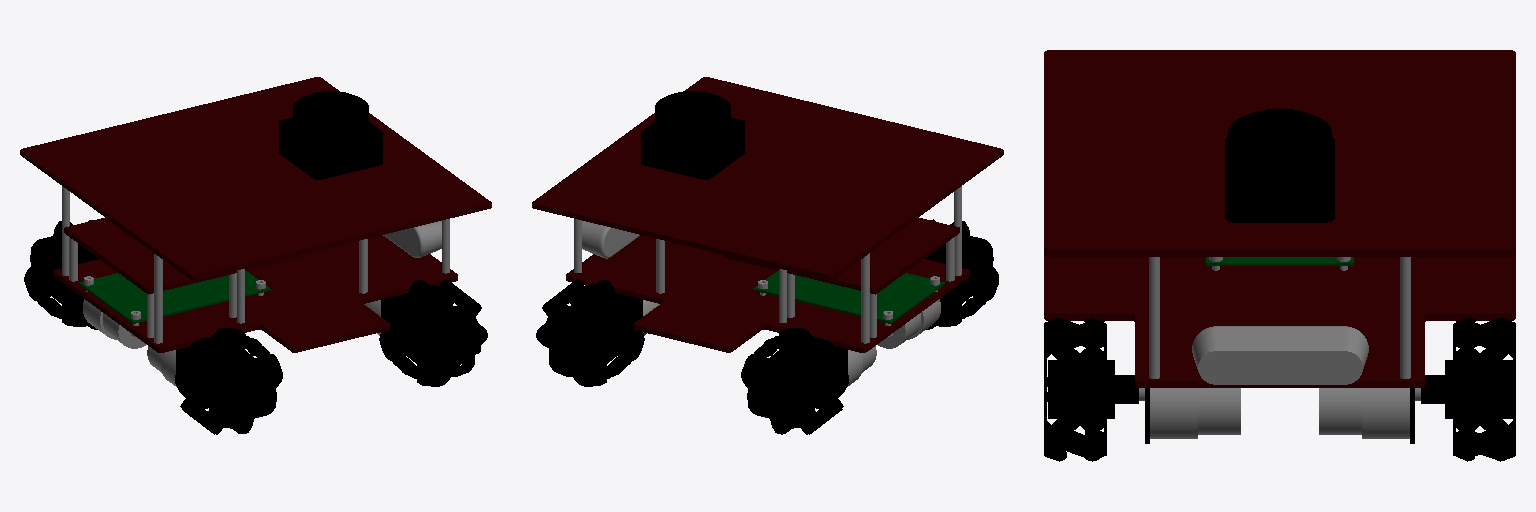
The robot description file, URDF, robot "lgdxrobot2":
<?xml version="1.0" ?>
<robot name="lgdxrobot2" xmlns:xacro="http://www.ros.org/wiki/xacro" xmlns:gz="http://gazebosim.org/schema">
  <joint name="base_footprint_joint" type="fixed">
    <origin rpy="0.00000 0.00000 0.00000" xyz="0.00000 0.00000 0.00000"/>
    <parent link="base_link"/>
    <child link="base_footprint"/>
  </joint>
  <joint name="camera_link_joint" type="fixed">
    <origin rpy="0.00000 0.00000 0.00000" xyz="0.13104 0.01776 0.07181"/>
    <parent link="base_link"/>
    <child link="camera_link"/>
  </joint>
  <joint name="camera_color_frame_joint" type="fixed">
    <origin rpy="0.00000 0.00000 0.00000" xyz="-0.00000 0.01500 0.00000"/>
    <parent link="camera_link"/>
    <child link="camera_color_frame"/>
  </joint>
  <joint name="camera_depth_frame_joint" type="fixed">
    <origin rpy="0.00000 0.00000 0.00000" xyz="-0.00000 -0.00000 0.00000"/>
    <parent link="camera_link"/>
    <child link="camera_depth_frame"/>
  </joint>
  <joint name="imu_link_joint" type="fixed">
    <origin rpy="0.00000 0.00000 0.00000" xyz="-0.08351 0.00000 0.0649"/>
    <parent link="base_link"/>
    <child link="imu_link"/>
  </joint>
  <joint name="lidar_link_joint" type="fixed">
    <origin rpy="0.00000 0.00000 -3.14159" xyz="0.06000 -0.00000 0.15641"/>
    <parent link="base_link"/>
    <child link="lidar_link"/>
  </joint>
  <joint name="wheel1_link_joint" type="continuous">
    <limit effort="10000" velocity="10"/>
    <dynamics damping="1.0" friction="1.0"/>
    <origin rpy="-1.57080 0.00000 0.00000" xyz="0.08200 0.10357 0.03681"/>
    <parent link="base_link"/>
    <child link="wheel1_link"/>
    <axis xyz="0 0 1" rpy="0 0 0"/>
  </joint>
  <joint name="wheel2_link_joint" type="continuous">
    <limit effort="10000" velocity="10"/>
    <dynamics damping="1.0" friction="1.0"/>
    <origin rpy="-1.57080 0.00000 0.00000" xyz="0.08200 -0.10357 0.03681"/>
    <parent link="base_link"/>
    <child link="wheel2_link"/>
    <axis xyz="0 0 1" rpy="0 0 0"/>
  </joint>
  <joint name="wheel3_link_joint" type="continuous">
    <limit effort="10000" velocity="10"/>
    <dynamics damping="1.0" friction="1.0"/>
    <origin rpy="-1.57080 0.00000 0.00000" xyz="-0.08200 0.10357 0.03681"/>
    <parent link="base_link"/>
    <child link="wheel3_link"/>
    <axis xyz="0 0 1" rpy="0 0 0"/>
  </joint>
  <joint name="wheel4_link_joint" type="continuous">
    <limit effort="10000" velocity="10"/>
    <dynamics damping="1.0" friction="1.0"/>
    <origin rpy="-1.57080 0.00000 0.00000" xyz="-0.08200 -0.10357 0.03681"/>
    <parent link="base_link"/>
    <child link="wheel4_link"/>
    <axis xyz="0 0 1" rpy="0 0 0"/>
  </joint>
  <link name="base_link">
    <collision name="plates_collision">
      <origin rpy="0.00000 0.00000 0.00000" xyz="0.00000 0.00000 0.09400"/>
      <geometry>
        <box size="0.24000 0.24000 0.07800"/>
      </geometry>
    </collision>
    <visual name="board">
      <material name="lgdxrobot_green"/>
      <origin rpy="0.00000 0.00000 0.00000" xyz="0.00000 0.00000 0.00000"/>
      <geometry>
        <mesh filename="package://lgdxrobot2_description/meshes/dae/b_LGDXRobot2_Board_001_.dae" scale="1.00000 1.00000 1.00000"/>
      </geometry>
    </visual>
    <visual name="brackets">
      <material name="lgdxrobot_black"/>
      <origin rpy="0.00000 0.00000 0.00000" xyz="0.00000 0.00000 0.00000"/>
      <geometry>
        <mesh filename="package://lgdxrobot2_description/meshes/dae/b_Mounting_Bracket_001_001.dae" scale="1.00000 1.00000 1.00000"/>
      </geometry>
    </visual>
    <visual name="motors">
      <material name="lgdxrobot_sliver"/>
      <origin rpy="0.00000 0.00000 0.00000" xyz="0.00000 0.00000 0.00000"/>
      <geometry>
        <mesh filename="package://lgdxrobot2_description/meshes/dae/b_Motor_001_001.dae" scale="1.00000 1.00000 1.00000"/>
      </geometry>
    </visual>
    <visual name="plates">
      <material name="lgdxrobot_red"/>
      <origin rpy="0.00000 0.00000 0.00000" xyz="0.00000 0.00000 0.00000"/>
      <geometry>
        <mesh filename="package://lgdxrobot2_description/meshes/dae/b_Top_Plate_001_.dae" scale="1.00000 1.00000 1.00000"/>
      </geometry>
    </visual>
    <visual name="screws">
      <material name="lgdxrobot_sliver"/>
      <origin rpy="0.00000 0.00000 0.00000" xyz="0.00000 0.00000 0.00000"/>
      <geometry>
        <mesh filename="package://lgdxrobot2_description/meshes/dae/b_M4_Nut_001_021.dae" scale="1.00000 1.00000 1.00000"/>
      </geometry>
    </visual>
    <visual name="standoffs">
      <material name="lgdxrobot_sliver"/>
      <origin rpy="0.00000 0.00000 0.00000" xyz="0.00000 0.00000 0.00000"/>
      <geometry>
        <mesh filename="package://lgdxrobot2_description/meshes/dae/b_Coupling_Nut_70mm_001_006.dae" scale="1.00000 1.00000 1.00000"/>
      </geometry>
    </visual>
    <inertial>
      <mass value="2.2768"/>
      <origin xyz="0.0 0 0" rpy=" 0 0 0"/>
      <inertia
          ixx="0.0625" ixy="0" ixz="0"
          iyy="0.2125" iyz="0"
          izz="0.25"
      />
    </inertial>
  </link>
  <link name="base_footprint"/>
  <link name="camera_link">
    <visual name="camera">
      <material name="lgdxrobot_sliver"/>
      <origin rpy="0.00000 0.00000 0.00000" xyz="-0.02304 -0.01750 -0.01250"/>
      <geometry>
        <mesh filename="package://lgdxrobot2_description/meshes/dae/b_Camera_001_.dae" scale="1.00000 1.00000 1.00000"/>
      </geometry>
    </visual>
  </link>
  <link name="camera_color_frame"/>
  <link name="camera_depth_frame"/>
  <link name="imu_link"/>
  <link name="lidar_link">
    <visual name="lidar">
      <material name="lgdxrobot_black"/>
      <origin rpy="0.00000 0.00000 0.00000" xyz="0.00000 -0.00000 -0.02310"/>
      <geometry>
        <mesh filename="package://lgdxrobot2_description/meshes/dae/b_Lidar_001_.dae" scale="1.00000 1.00000 1.00000"/>
      </geometry>
    </visual>
  </link>
  <link name="wheel1_link">
    <inertial>
      <mass value="0.1018"/>
      <origin xyz="0 0 0" rpy="0 0 0"/>
      <inertia
          ixx="0.00004448" ixy="0" ixz="0"
          iyy="0.00004448" iyz="0"
          izz="0.00007158"
      />
    </inertial>
    <collision>
      <geometry>
        <sphere radius="0.0375"/>
      </geometry>
    </collision>
    <visual name='wheel1'>
      <material name="lgdxrobot_black"/>
      <origin xyz="0 0 0" rpy="1.5707 0 0"/>
      <geometry>
        <mesh filename="package://lgdxrobot2_description/meshes/dae/b_Wheel_1_001_.dae" scale="1.00000 1.00000 1.00000"/>
      </geometry>
    </visual>
  </link>
  <link name="wheel2_link">
    <inertial>
      <mass value="0.1018"/>
      <origin xyz="0 0 0" rpy="0 0 0"/>
      <inertia
          ixx="0.00004448" ixy="0" ixz="0"
          iyy="0.00004448" iyz="0"
          izz="0.00007158"
      />
    </inertial>
    <collision>
      <geometry>
        <sphere radius="0.0375"/>
      </geometry>
    </collision>
    <visual name='wheel2'>
      <origin xyz="0 0 0" rpy="1.5707 0 0"/>
      <material name="lgdxrobot_black"/>
      <geometry>
        <mesh filename="package://lgdxrobot2_description/meshes/dae/b_Wheel_2_001_.dae" scale="1.00000 1.00000 1.00000"/>
      </geometry>
    </visual>
  </link>
  <link name="wheel3_link">
    <inertial>
      <mass value="0.1018"/>
      <origin xyz="0 0 0" rpy="0 0 0"/>
      <inertia
          ixx="0.00004448" ixy="0" ixz="0"
          iyy="0.00004448" iyz="0"
          izz="0.00007158"
      />
    </inertial>
    <collision>
      <geometry>
        <sphere radius="0.0375"/>
      </geometry>
    </collision>
    <visual name='wheel3'>
      <material name="lgdxrobot_black"/>
      <origin xyz="0 0 0" rpy="1.5707 0 0"/>
      <geometry>
        <mesh filename="package://lgdxrobot2_description/meshes/dae/b_Wheel_3_001_.dae" scale="1.00000 1.00000 1.00000"/>
      </geometry>
    </visual>
  </link>
  <link name="wheel4_link">
    <inertial>
      <mass value="0.1018"/>
      <origin xyz="0 0 0" rpy="0 0 0"/>
      <inertia
          ixx="0.00004448" ixy="0" ixz="0"
          iyy="0.00004448" iyz="0"
          izz="0.00007158"
      />
    </inertial>
    <collision>
      <geometry>
        <sphere radius="0.0375"/>
      </geometry>
    </collision>
    <visual name='wheel4'>
      <material name="lgdxrobot_black"/>
      <origin xyz="0 0 0" rpy="1.5707 0 0"/>
      <geometry>
        <mesh filename="package://lgdxrobot2_description/meshes/dae/b_Wheel_4_001_.dae" scale="1.00000 1.00000 1.00000"/>
      </geometry>
    </visual>
  </link>
  <!-- Gazebo MecanumDrive -->
  <gazebo>
    <plugin
      filename="gz-sim-mecanum-drive-system"
      name="gz::sim::systems::MecanumDrive">
      <topic>cmd_vel</topic>
      <front_left_joint>wheel1_link_joint</front_left_joint>
      <front_right_joint>wheel2_link_joint</front_right_joint>
      <back_left_joint>wheel3_link_joint</back_left_joint>
      <back_right_joint>wheel4_link_joint</back_right_joint>
      <wheel_separation>0.208</wheel_separation>
      <wheelbase>0.164</wheelbase>
      <wheel_radius>0.0375</wheel_radius>
      <min_acceleration>-5</min_acceleration>
      <max_acceleration>5</max_acceleration>
      <odom_topic>odom</odom_topic>
      <tf_topic>tf</tf_topic>
      <frame_id>odom</frame_id>
      <child_frame_id>base_link</child_frame_id>
      <odom_publish_frequency>100</odom_publish_frequency>
    </plugin>
    <plugin
      filename="gz-sim-joint-state-publisher-system"
      name="gz::sim::systems::JointStatePublisher">
      <topic>joint_states</topic>
    </plugin>
  </gazebo>
  <gazebo reference='wheel1_link'>
    <collision>
      <surface>
        <friction>
          <ode>
            <mu>1.5</mu>
            <mu2>0.0</mu2>
            <fdir1 gz:expressed_in="base_link">1 -1 0</fdir1>
          </ode>
        </friction>
      </surface>
    </collision>
  </gazebo>
  <gazebo reference='wheel3_link'>
    <collision>
      <surface>
        <friction>
          <ode>
            <mu>1.5</mu>
            <mu2>0.0</mu2>
            <fdir1 gz:expressed_in="base_link">1 1 0</fdir1>
          </ode>
        </friction>
      </surface>
    </collision>
  </gazebo>
  <gazebo reference='wheel2_link'>
    <collision>
      <surface>
        <friction>
          <ode>
            <mu>1.5</mu>
            <mu2>0.0</mu2>
            <fdir1 gz:expressed_in="base_link">1 1 0</fdir1>
          </ode>
        </friction>
      </surface>
    </collision>
  </gazebo>
  <gazebo reference='wheel4_link'>
    <collision>
      <surface>
        <friction>
          <ode>
            <mu>1.5</mu>
            <mu2>0.0</mu2>
            <fdir1 gz:expressed_in="base_link">1 -1 0</fdir1>
          </ode>
        </friction>
      </surface>
    </collision>
  </gazebo>
  <gazebo reference="base_link">
    <mu1>0.000002</mu1>
    <mu2>0.000002</mu2>
  </gazebo>
  <!-- Gazebo LiDAR -->
  <gazebo>
   <plugin
      filename="gz-sim-sensors-system"
      name="gz::sim::systems::Sensors">
      <render_engine>ogre2</render_engine>
    </plugin>
  </gazebo>
  <gazebo reference="lidar_link">
    <sensor name='lidar' type='gpu_lidar'>"
      <pose relative_to='lidar_link'>0 0 0 0 0 0</pose>
      <topic>scan</topic>
      <gz_frame_id>lidar_link</gz_frame_id>
      <update_rate>10</update_rate>
      <ray>
        <scan>
          <horizontal>
            <samples>500</samples>
            <resolution>1</resolution>
            <min_angle>-3.14159265359</min_angle>
            <max_angle>3.14159265359</max_angle>
          </horizontal>
          <vertical>
            <samples>1</samples>
            <resolution>0.01</resolution>
            <min_angle>0</min_angle>
            <max_angle>0</max_angle>
          </vertical>
        </scan>
        <range>
          <min>0.08</min>
          <max>10.0</max>
          <resolution>0.05</resolution>
        </range>
      </ray>
      <always_on>1</always_on>
      <visualize>true</visualize>
    </sensor>
  </gazebo>
  <!-- Gazebo IMU -->
  <gazebo>
    <plugin filename="gz-sim-imu-system"
      name="gz::sim::systems::Imu">
    </plugin>
  </gazebo>
  <gazebo reference="imu_link">
    <sensor name="imu" type="imu">
      <always_on>1</always_on>
      <update_rate>100</update_rate>
      <visualize>true</visualize>
      <topic>imu</topic>
      <gz_frame_id>imu_link</gz_frame_id>
    </sensor>
  </gazebo>
  <!-- Gazebo Camera -->
  <gazebo reference="camera_color_frame">
    <sensor name="camera" type="camera">
      <always_on>1</always_on>
      <update_rate>30</update_rate>
      <visualize>true</visualize>
      <topic>camera/color/image_raw</topic>
      <gz_frame_id>camera_color_frame</gz_frame_id>
      <camera_info_topic>camera/color/camera_info</camera_info_topic>
      <camera name="camera_color">
        <horizontal_fov>1.047198</horizontal_fov>
        <image>
          <width>1280</width>
          <height>720</height>
          <format>R8G8B8</format>
        </image>
        <clip>
          <near>0.1</near>
          <far>100</far>
        </clip>
      </camera>
    </sensor>
  </gazebo>
  <gazebo reference="camera_depth_frame">
    <sensor name="depth_camera" type="depth">
      <always_on>1</always_on>
      <update_rate>30</update_rate>
      <visualize>true</visualize>
      <topic>camera/depth/image_rect_raw</topic>
      <gz_frame_id>camera_depth_frame</gz_frame_id>
      <camera_info_topic>camera/depth/camera_info</camera_info_topic>
      <depth_camera name="camera_depth">
        <horizontal_fov>1.047198</horizontal_fov>
        <image>
          <width>1280</width>
          <height>720</height>
        </image>
        <clip>
          <near>0.3</near>
          <far>3</far>
        </clip>
        <output>depth</output>
      </depth_camera>
    </sensor>
  </gazebo>
  <material name="lgdxrobot_black">
    <color rgba="0.00000 0.00000 0.00000 1.00000"/>
  </material>
  <material name="lgdxrobot_green">
    <color rgba="0.00000 0.25882 0.06667 1.00000"/>
  </material>
  <material name="lgdxrobot_red">
    <color rgba="0.21961 0.00784 0.01176 1.00000"/>
  </material>
  <material name="lgdxrobot_sliver">
    <color rgba="0.52549 0.52549 0.52549 1.00000"/>
  </material>
</robot>

--- Render facts (derived) ---
The picture shows the robot from 3 angles, left to right: view 1: azimuth 30°, elevation 25°; view 2: azimuth 150°, elevation 25°; view 3: azimuth 270°, elevation 25°; orthographic projection.
Robot: lgdxrobot2 — 11 links, 10 joints (4 continuous, 6 fixed); root link base_link; default pose: every joint at zero.
Links seen in each view (by area): view 1: base_link, wheel4_link, wheel2_link, lidar_link, wheel3_link, camera_link; view 2: base_link, wheel3_link, wheel1_link, lidar_link, wheel4_link, camera_link; view 3: base_link, lidar_link, camera_link, wheel1_link, wheel2_link.
Boxes of the visible links, <box> form: base_link: <box>20,77,491,396</box>; wheel4_link: <box>175,327,282,434</box>; wheel2_link: <box>379,279,487,386</box>; lidar_link: <box>279,91,382,179</box>; wheel3_link: <box>24,220,98,326</box>; camera_link: <box>383,221,441,257</box>; base_link: <box>532,77,1003,396</box>; wheel3_link: <box>741,328,848,434</box>; wheel1_link: <box>536,279,644,386</box>; lidar_link: <box>641,91,744,179</box>; wheel4_link: <box>925,219,998,326</box>; camera_link: <box>582,221,639,258</box>; base_link: <box>1044,50,1515,443</box>; lidar_link: <box>1225,109,1334,222</box>; camera_link: <box>1192,326,1368,384</box>; wheel1_link: <box>1421,318,1515,461</box>; wheel2_link: <box>1044,318,1138,461</box>.
Size in the robot's own frame: 0.251 by 0.24 by 0.1728 metres.
12 mesh visuals loaded from 12 distinct referenced files (12 Collada DAE).
